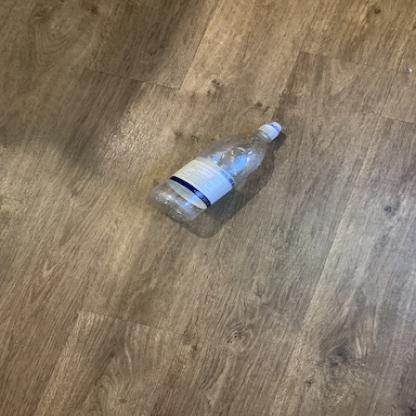trash: (146, 121, 286, 227)
